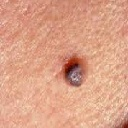Carcinoma: (63, 56, 88, 93)
